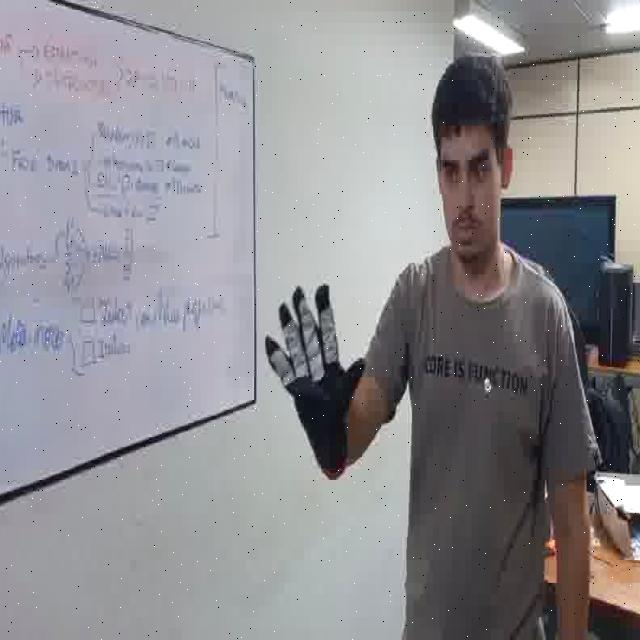Gloves: (264, 282, 362, 479)
